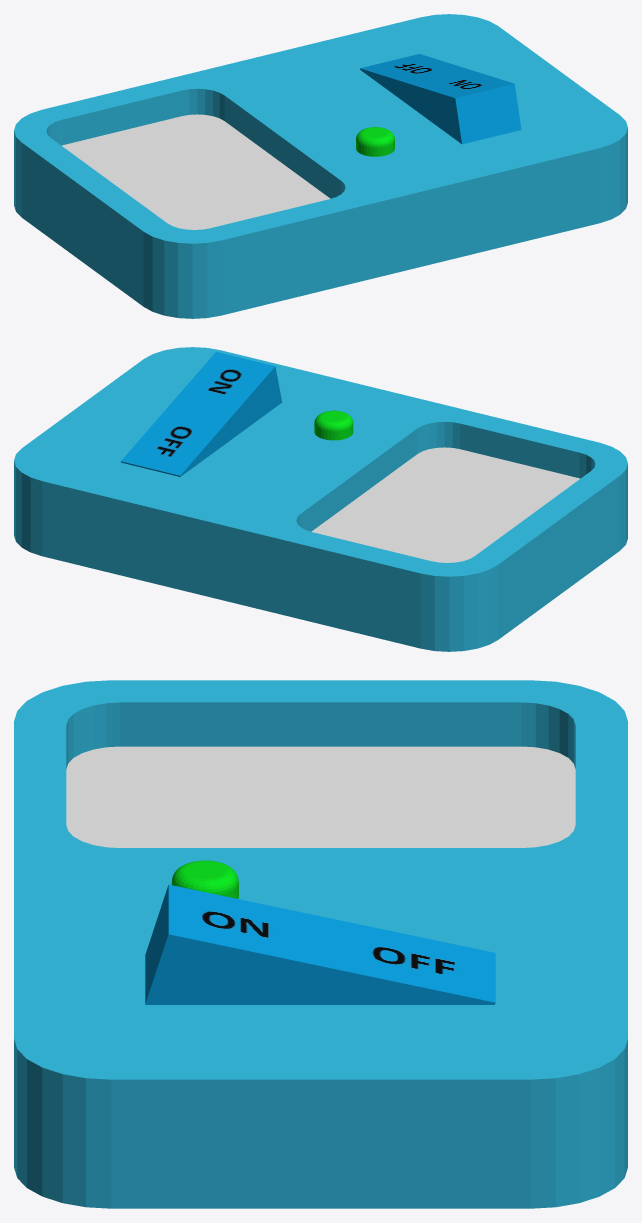
Rendered from AparatoCautin.fbx.
3 views of the same model, one above another, from view 1: azimuth 30°, elevation 25°; view 2: azimuth 150°, elevation 25°; view 3: azimuth 270°, elevation 25° (orthographic). The views are drawn at different scales.
Visible parts, largest first — view 1: Cube, Cube.001, Cylinder; view 2: Cube, Cube.001, Cylinder; view 3: Cube, Cube.001, Cylinder.
Part boxes in pixels (x1,y1,x2,y2): Cube: (14,14,627,318); Cube.001: (360,54,521,144); Cylinder: (356,127,394,156); Cube: (14,347,627,651); Cube.001: (121,351,282,476); Cylinder: (314,410,353,440); Cube: (14,680,627,1208); Cube.001: (145,884,495,1004); Cylinder: (171,860,238,898).
Bounding box in the file's own units: 308 × 71.83 × 200.
Materials: 4 (1 with a texture image).
